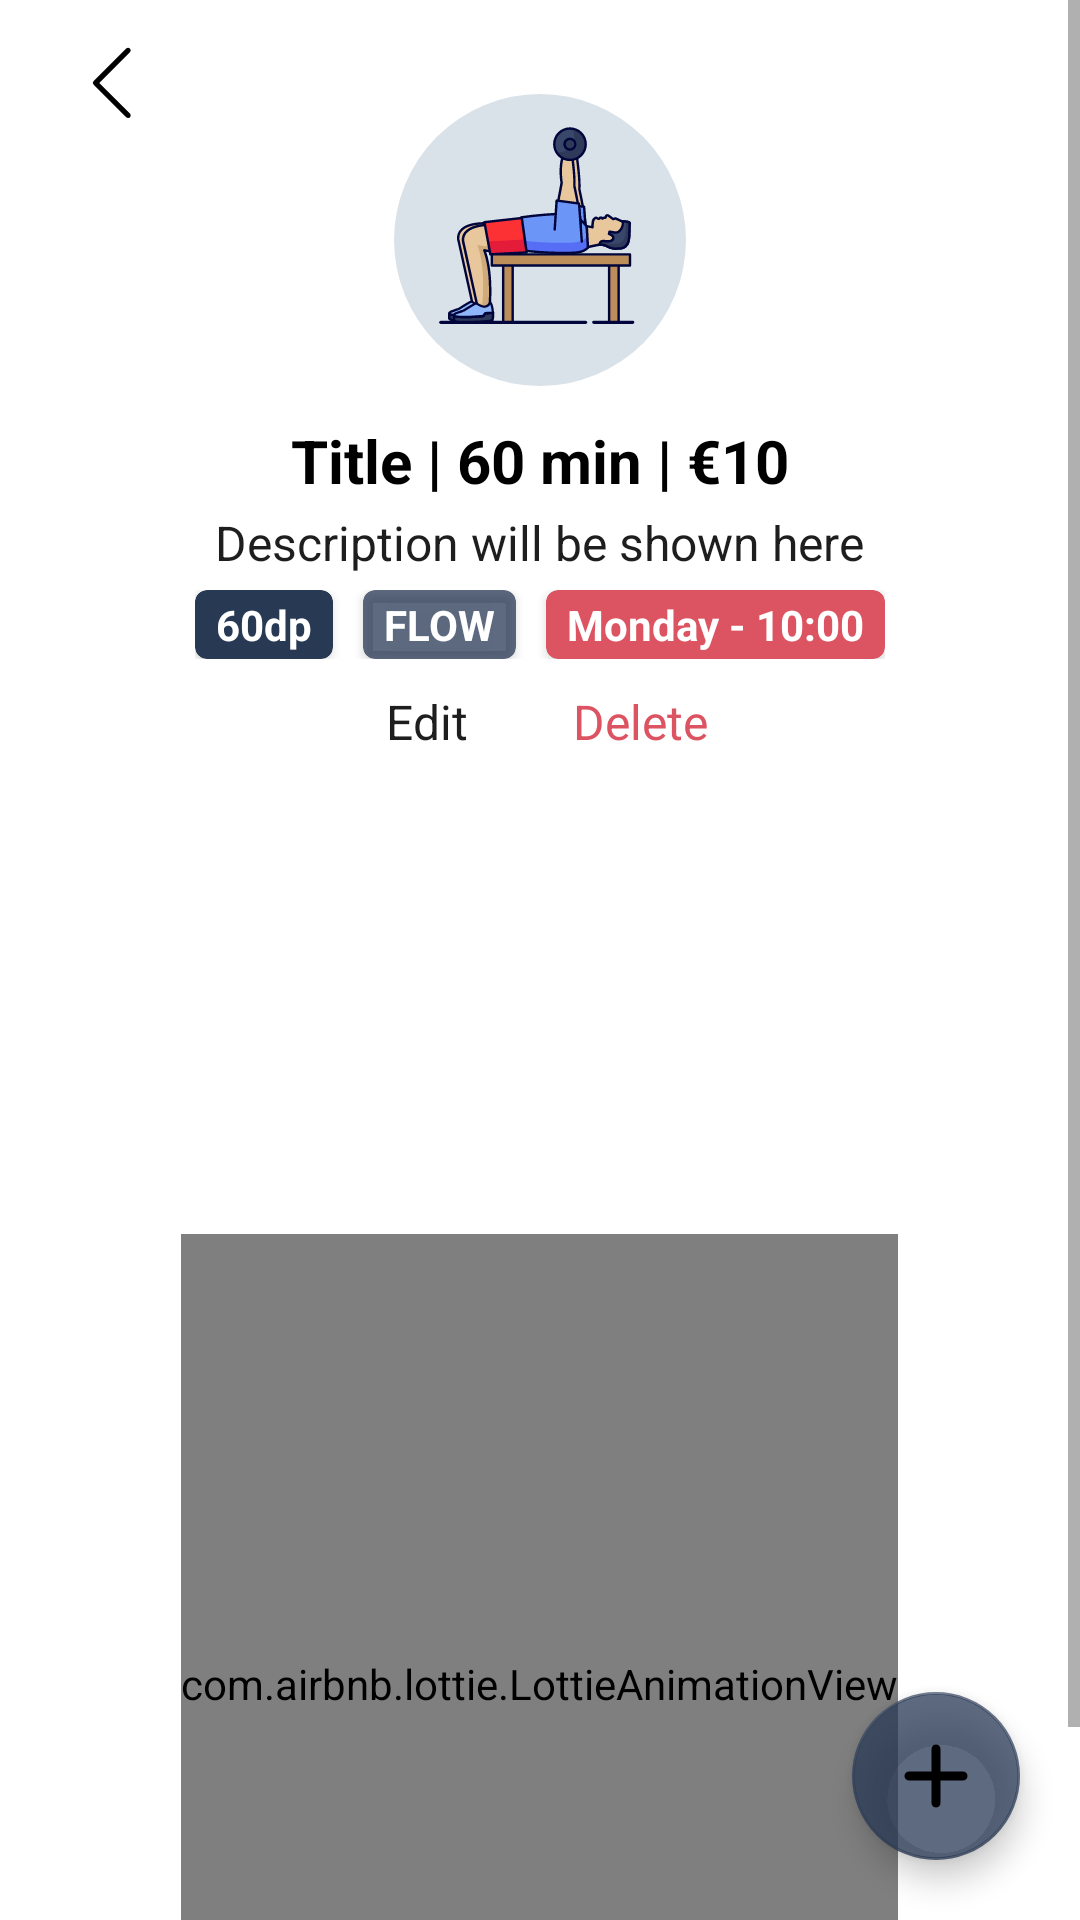

Icon click points for this 1080px×1920px phone screenshot, format (x=x, y=y):
add: (x=936, y=1776)
back: (x=111, y=82)
